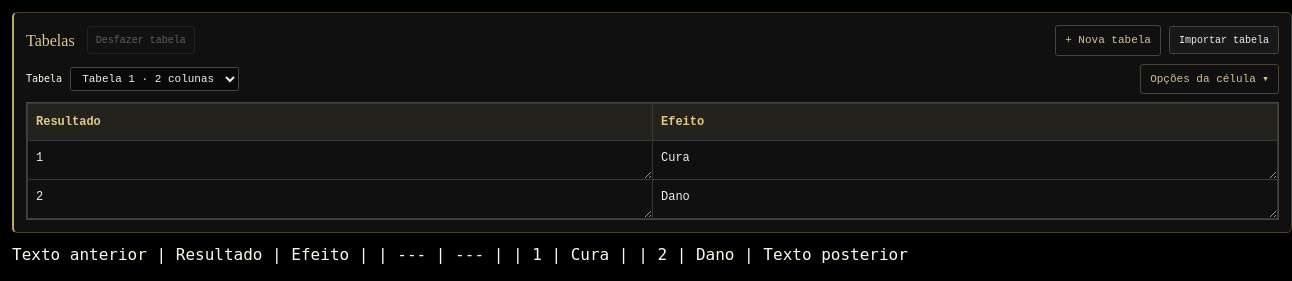
Test case: edita células, preserva espaços e o texto ao redor, e desfaz
Replace the text in the text box named "Linha 1, coluna 2" with "Cura maior " at (965, 160), box [653, 141, 1277, 179]
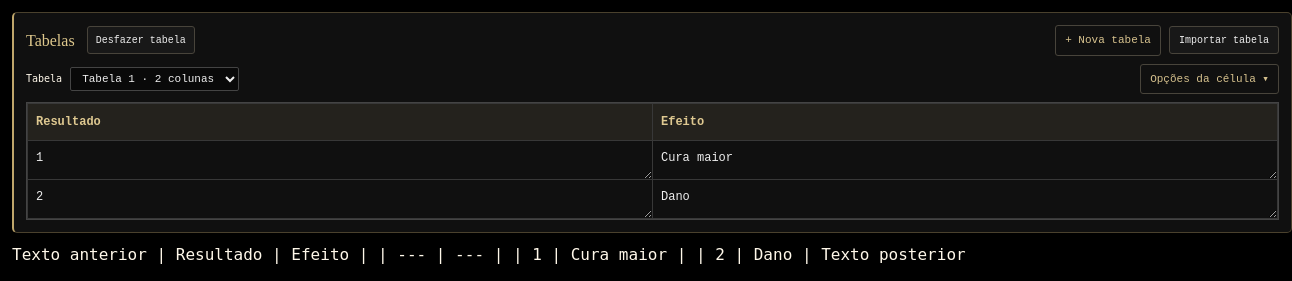
Check: the text with test id "source" shows "Texto anterior", box [12, 245, 966, 264]
Check: the text with test id "source" shows "Texto posterior", box [12, 245, 966, 264]
Click the button "Desfazer tabela" at (141, 40), box [87, 26, 195, 54]
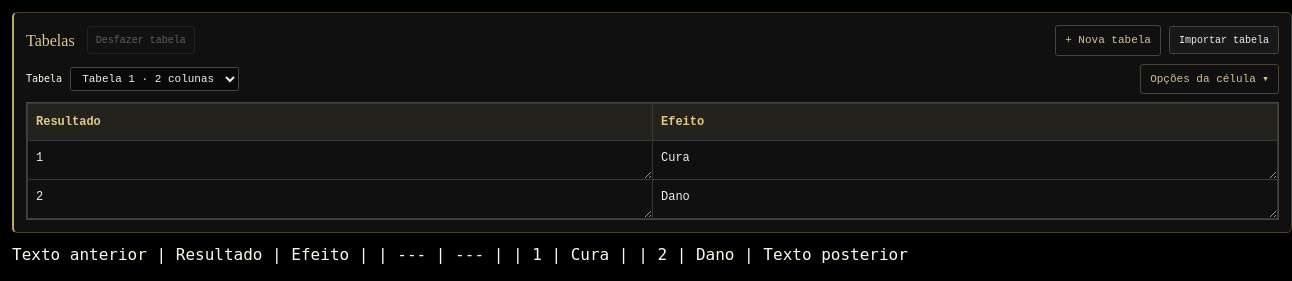
Check: the text box named "Linha 1, coluna 2" holds "Cura", box [653, 141, 1277, 179]
